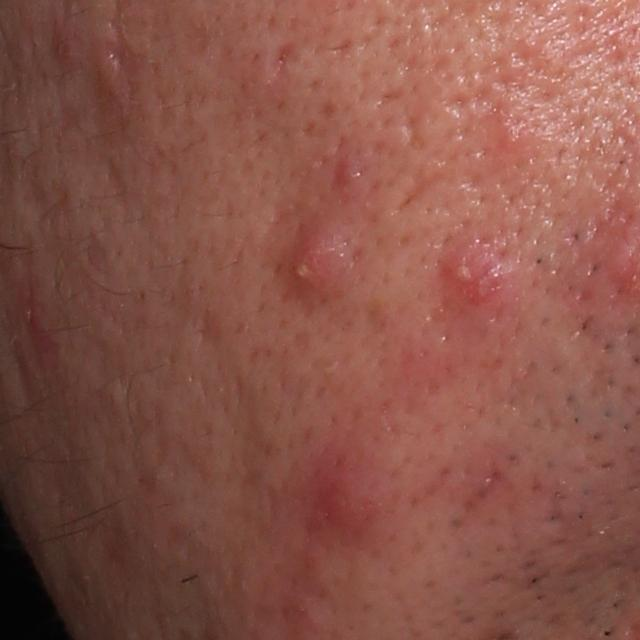atrophic_scar: (393, 160, 450, 219), (109, 22, 155, 85), (263, 36, 300, 72), (400, 110, 424, 151)
papule: (309, 457, 386, 540), (286, 225, 344, 302), (90, 36, 122, 106), (49, 20, 80, 69), (500, 120, 533, 155), (332, 154, 362, 188)
